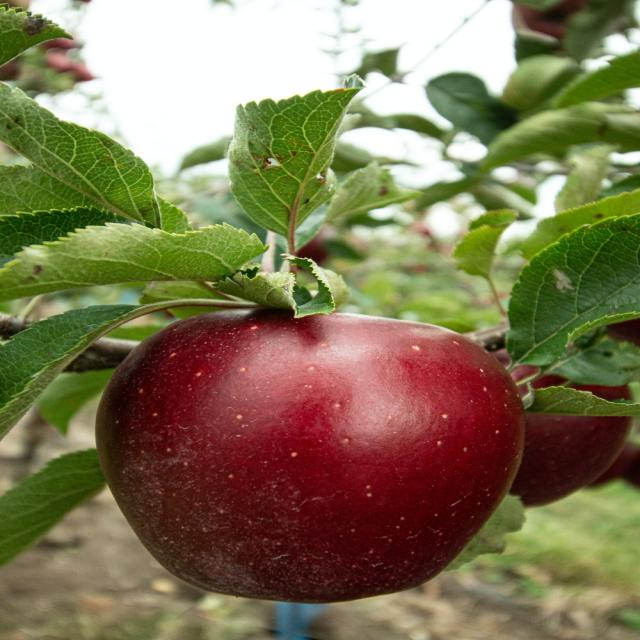apple: (90, 307, 531, 606)
